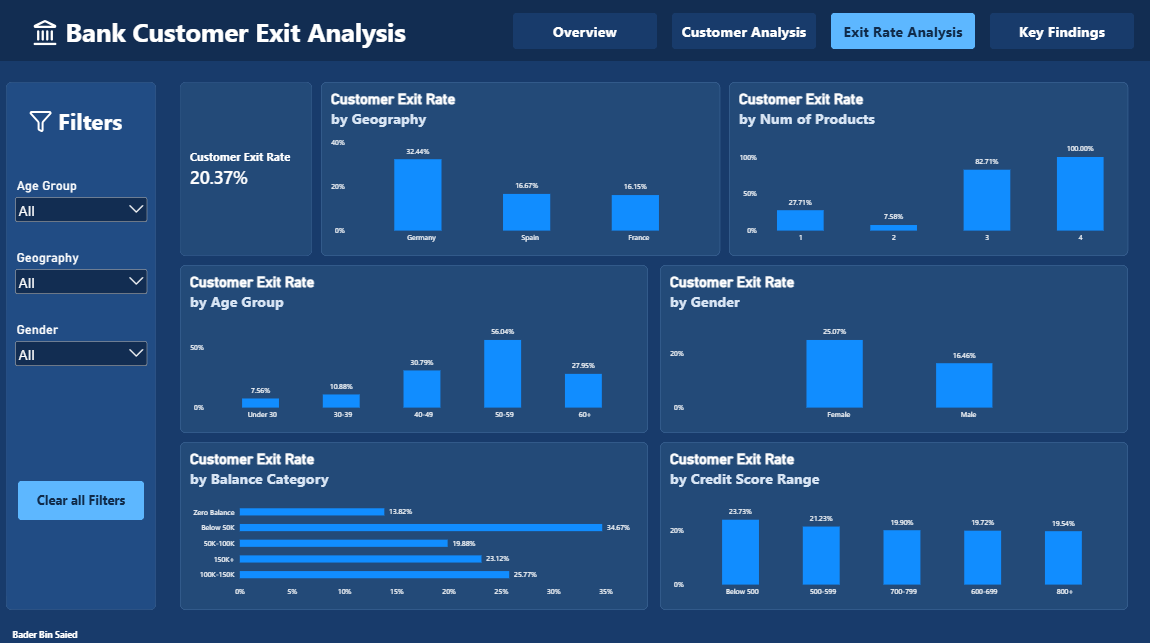

This screenshot's page, from the dashboard's own definition file:
{"tool":"powerbi","page":{"name":"Exit Rate Analysis","canvas":[1920,1080],"ordinal":2},"visuals":[{"type":"shape","box":[10,140,250,880],"z":0},{"type":"slicer","fields":{"Values":["Churn_Modelling.Geography"]},"box":[20,420,230,75],"z":1000},{"type":"slicer","fields":{"Values":["Churn_Modelling.Gender"]},"box":[20,540,230,75],"z":2000},{"type":"slicer","fields":{"Values":["Churn_Modelling.Age Group"]},"box":[20,300,230,75],"z":3000},{"type":"textbox","box":[80,180,140.9,60],"z":4000},{"type":"image","box":[25,185,85,40],"z":5000},{"type":"actionButton","box":[30,805,210,65],"z":6000},{"type":"shape","box":[0,0,1920,105],"z":12000,"group":"g1"},{"type":"group","id":"g1","title":"Group 1","box":[0,0,1920,105],"z":13000},{"type":"actionButton","box":[855,25,240,60],"z":13000,"group":"g1"},{"type":"actionButton","box":[1120,25,240,60],"z":14000,"group":"g1"},{"type":"cardVisual","fields":{"Data":["Measures (2).Churn Rate"]},"box":[300,140,220,290],"z":14500},{"type":"actionButton","box":[1385,25,240,60],"z":15000,"group":"g1"},{"type":"clusteredColumnChart","fields":{"Category":["Churn_Modelling.Geography"],"Y":["Measures (2).Churn Rate"]},"box":[535,140,665,290],"z":15000},{"type":"columnChart","fields":{"Category":["Churn_Modelling.NumOfProducts"],"Y":["Measures (1).Customer Exit Rate"]},"box":[1215,140,665,290],"z":15500},{"type":"textbox","box":[103,28,580,60],"z":16000,"group":"g1"},{"type":"columnChart","fields":{"Category":["Churn_Modelling.Age Group"],"Y":["Measures (1).Customer Exit Rate"]},"box":[300,445,780,280],"z":16000},{"type":"columnChart","fields":{"Category":["Churn_Modelling.Gender"],"Y":["Measures (1).Customer Exit Rate"]},"box":[1100,445,780,280],"z":16500},{"type":"barChart","fields":{"Category":["Churn_Modelling.Balance Category"],"Y":["Measures (1).Customer Exit Rate"]},"box":[300,740,780,280],"z":17000},{"type":"columnChart","fields":{"Category":["Churn_Modelling.Credit Score Range"],"Y":["Measures (1).Customer Exit Rate"]},"box":[1100,740,780,280],"z":17500},{"type":"textbox","box":[5,1050,140,30],"z":17501},{"type":"image","box":[25,35,100,45],"z":19000,"group":"g1"},{"type":"actionButton","box":[1650,25,240,60],"z":20000,"group":"g1"}]}

Visuals, with their boxes in screenshot pixels (x1, y1, x2, y2), scaled from the page's 1920x1080 canvas onto the 1150x643 screenshot:
shape: (left=6, top=83, right=156, bottom=607)
slicer - Churn_Modelling.Geography: (left=12, top=250, right=150, bottom=295)
slicer - Churn_Modelling.Gender: (left=12, top=322, right=150, bottom=366)
slicer - Churn_Modelling.Age Group: (left=12, top=179, right=150, bottom=223)
textbox: (left=48, top=107, right=132, bottom=143)
image: (left=15, top=110, right=66, bottom=134)
actionButton: (left=18, top=479, right=144, bottom=518)
shape: (left=0, top=0, right=1149, bottom=63)
"Group 1" group: (left=0, top=0, right=1149, bottom=63)
actionButton: (left=512, top=15, right=656, bottom=51)
actionButton: (left=671, top=15, right=815, bottom=51)
cardVisual - Measures (2).Churn Rate: (left=180, top=83, right=311, bottom=256)
actionButton: (left=830, top=15, right=973, bottom=51)
clusteredColumnChart - Churn_Modelling.Geography x Measures (2).Churn Rate: (left=320, top=83, right=719, bottom=256)
columnChart - Churn_Modelling.NumOfProducts x Measures (1).Customer Exit Rate: (left=728, top=83, right=1126, bottom=256)
textbox: (left=62, top=17, right=409, bottom=52)
columnChart - Churn_Modelling.Age Group x Measures (1).Customer Exit Rate: (left=180, top=265, right=647, bottom=432)
columnChart - Churn_Modelling.Gender x Measures (1).Customer Exit Rate: (left=659, top=265, right=1126, bottom=432)
barChart - Churn_Modelling.Balance Category x Measures (1).Customer Exit Rate: (left=180, top=441, right=647, bottom=607)
columnChart - Churn_Modelling.Credit Score Range x Measures (1).Customer Exit Rate: (left=659, top=441, right=1126, bottom=607)
textbox: (left=3, top=625, right=87, bottom=642)
image: (left=15, top=21, right=75, bottom=48)
actionButton: (left=988, top=15, right=1132, bottom=51)
